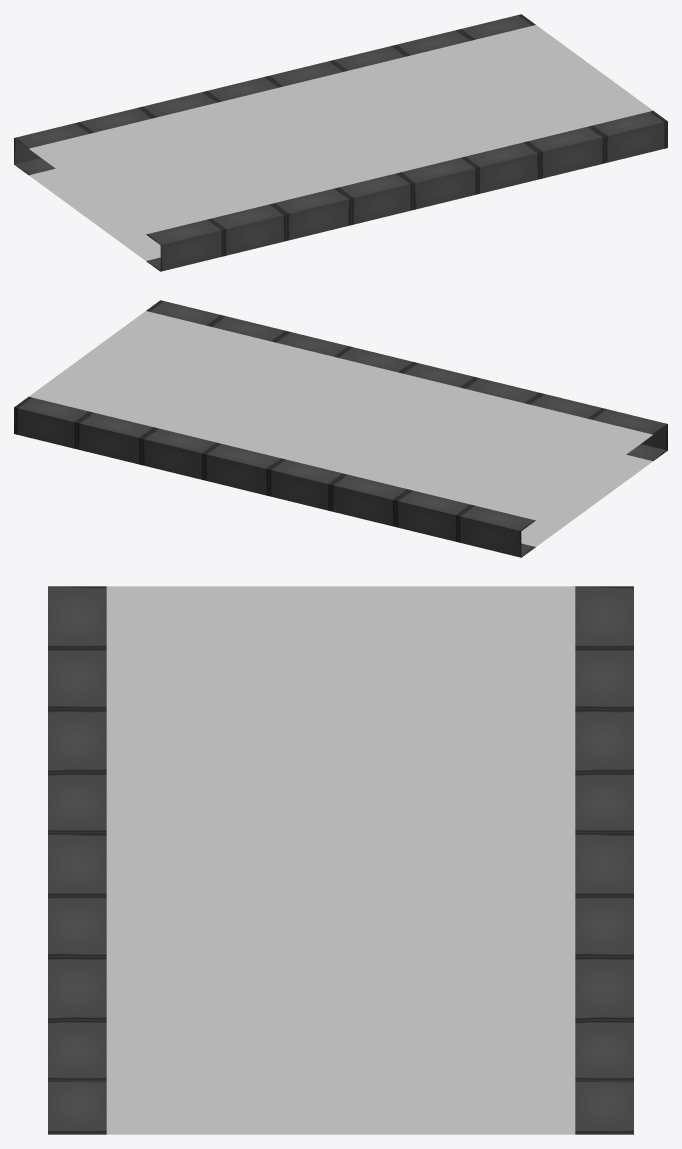
Rendered from SM_Platform1.fbx.
The picture shows the model from 3 angles, top to bottom: view 1: azimuth 30°, elevation 25°; view 2: azimuth 150°, elevation 25°; view 3: azimuth 270°, elevation 25°; orthographic projection. The views are drawn at different scales.
Visible parts, largest first — view 1: pCube1; view 2: pCube1; view 3: pCube1.
Boxes of the visible parts, box(x1,y1,x2,y2) form: pCube1: box(14, 14, 667, 271); pCube1: box(14, 300, 667, 557); pCube1: box(48, 586, 633, 1134).
Size of the model in its own units: 200 by 10 by 100.
